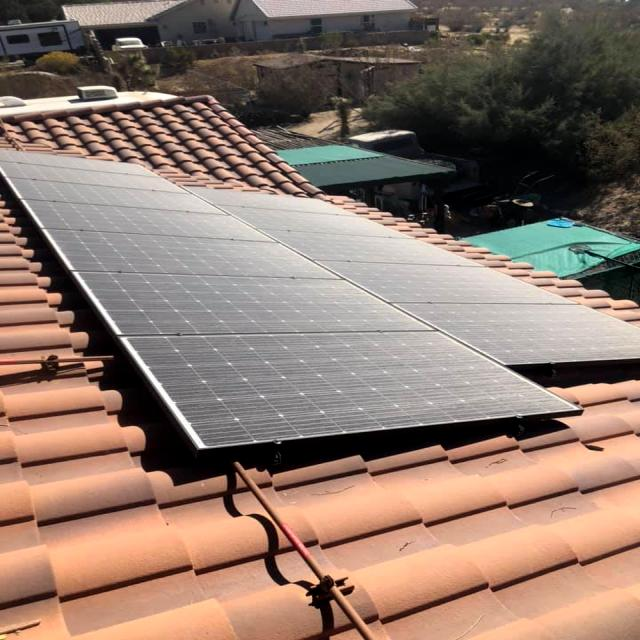dust: (167, 335, 519, 408), (112, 270, 414, 323), (71, 227, 288, 267), (32, 174, 186, 211), (462, 304, 588, 332)
